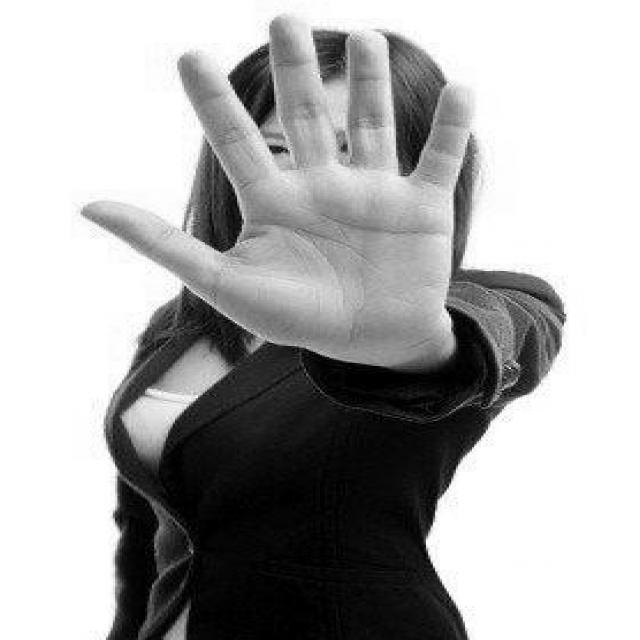stop: (65, 7, 482, 362)
